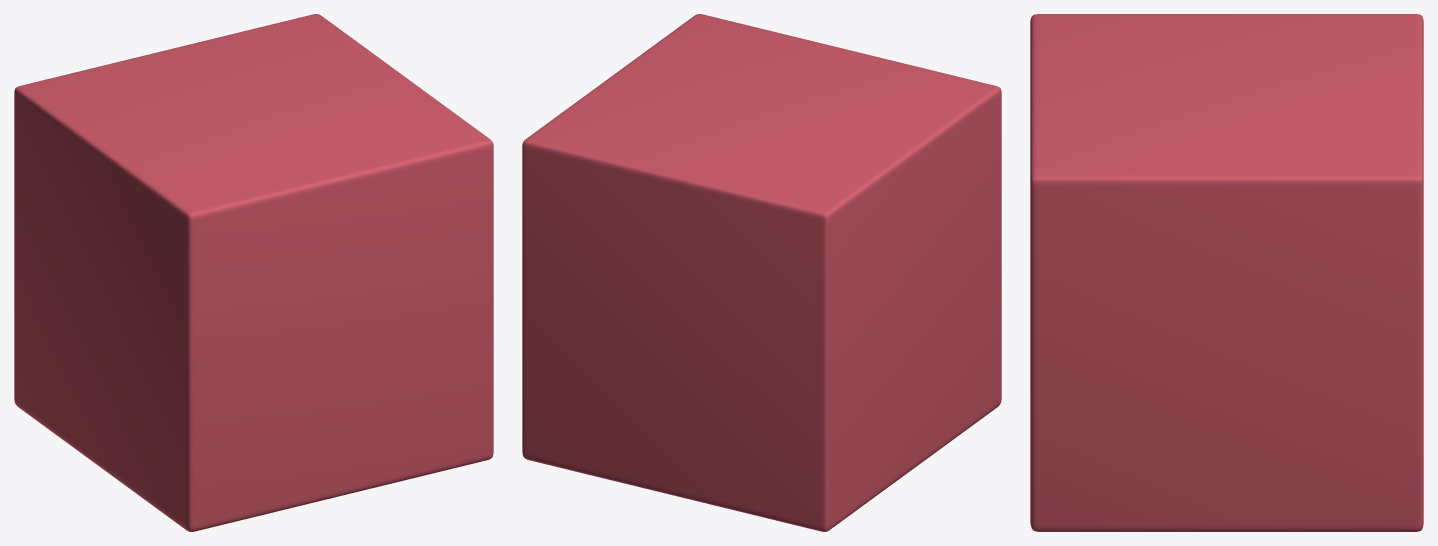
File: suqarerounded.fbx
3 views of the same model, side by side, from view 1: azimuth 30°, elevation 25°; view 2: azimuth 150°, elevation 25°; view 3: azimuth 270°, elevation 25° (orthographic). The views are drawn at different scales.
Visible parts, largest first — view 1: Cube; view 2: Cube; view 3: Cube.
Boxes of the visible parts, x1,y1,x2,y2 form: Cube: [14, 14, 493, 531]; Cube: [522, 14, 1001, 531]; Cube: [1030, 14, 1423, 531].
Size of the model in its own units: 99.53 by 99.34 by 99.5.
